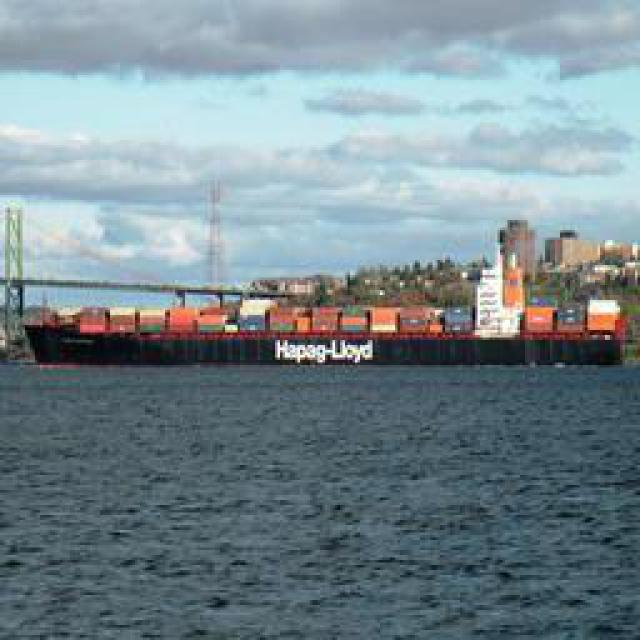Ship: (9, 285, 634, 375)
